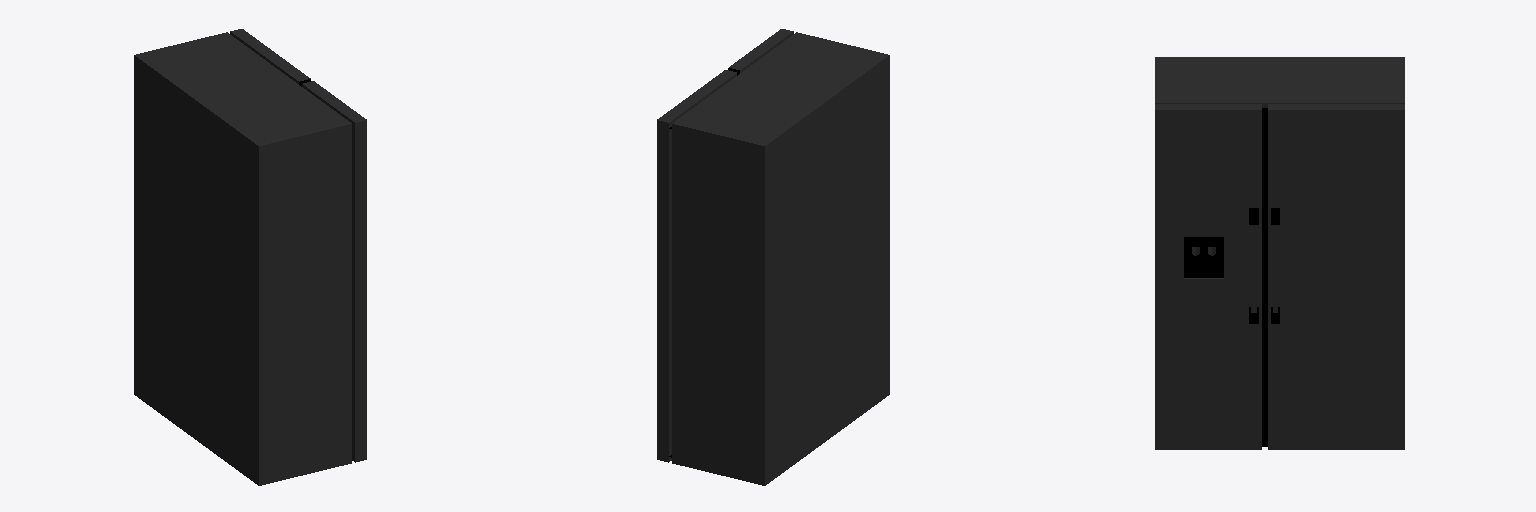
File: Fridge.obj
3 renders of one model, left to right at view 1: azimuth 30°, elevation 25°; view 2: azimuth 150°, elevation 25°; view 3: azimuth 270°, elevation 25°, orthographic.
Visible parts, largest first — view 1: Fridge_Cube; view 2: Fridge_Cube; view 3: Fridge_Cube.
Boxes of the visible parts, x1=… form: Fridge_Cube: x1=134, y1=29, x2=366, y2=485; Fridge_Cube: x1=657, y1=29, x2=889, y2=485; Fridge_Cube: x1=1155, y1=57, x2=1404, y2=449.
Size of the model in its own units: 2.2 by 6 by 4.